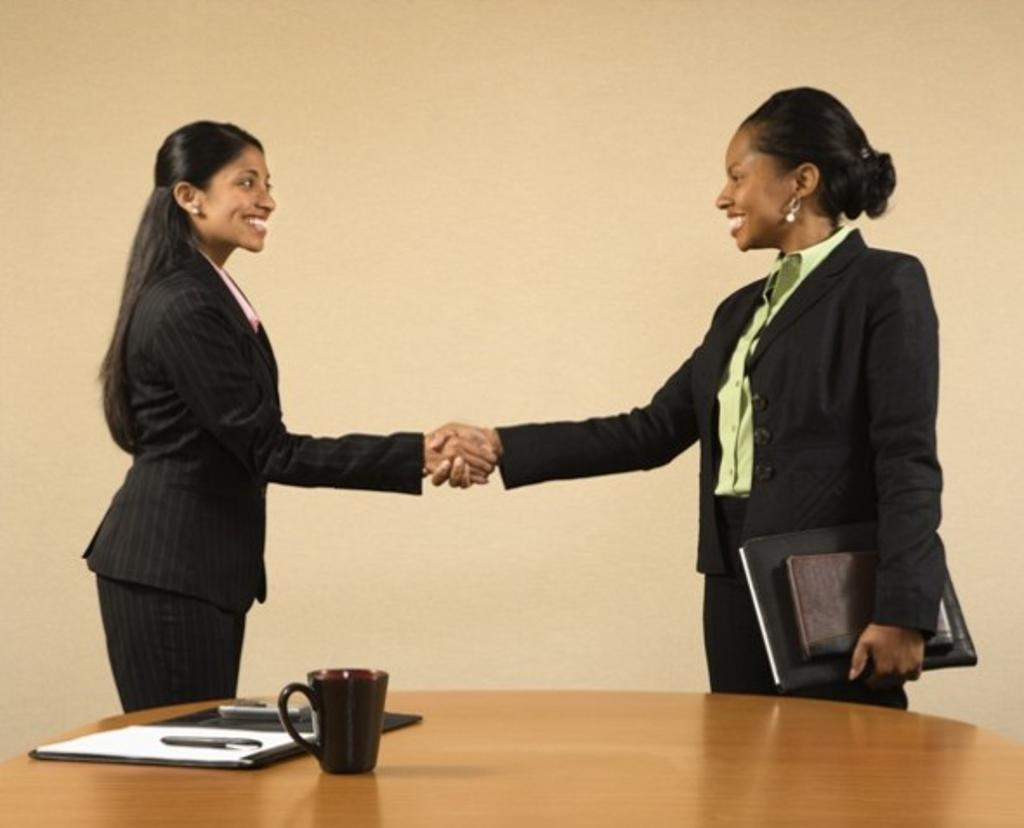face: (714, 116, 780, 250), (210, 142, 276, 252)
